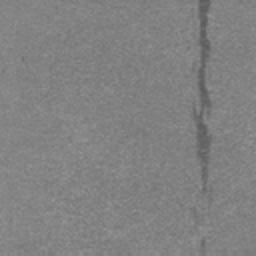Red iron sheet: (192, 0, 213, 202), (201, 239, 205, 253)
